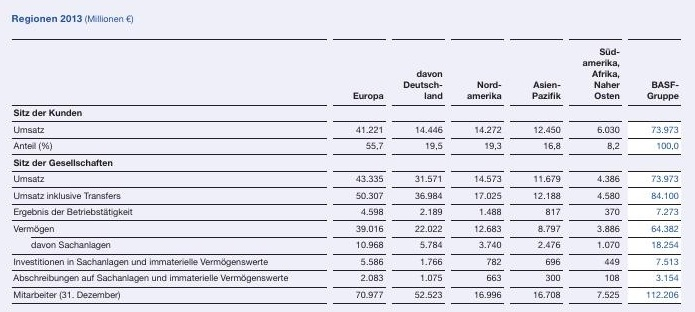table: (0, 0, 695, 312)
